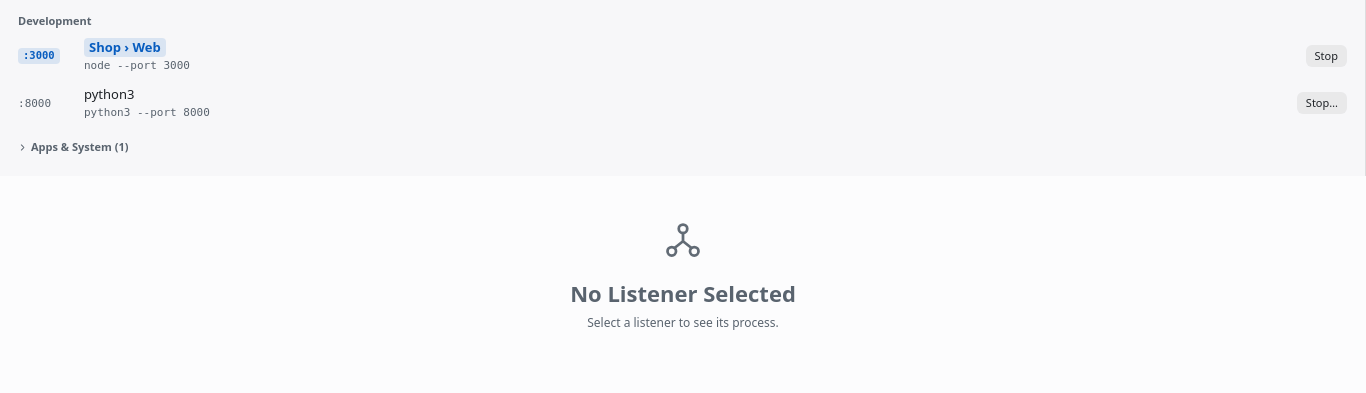
it: PortsView › lists development servers, names a Service's by its Service, and folds apps away
Click the button "Apps & System (1)".
click(73, 147)  # box 10,138 -> 136,156
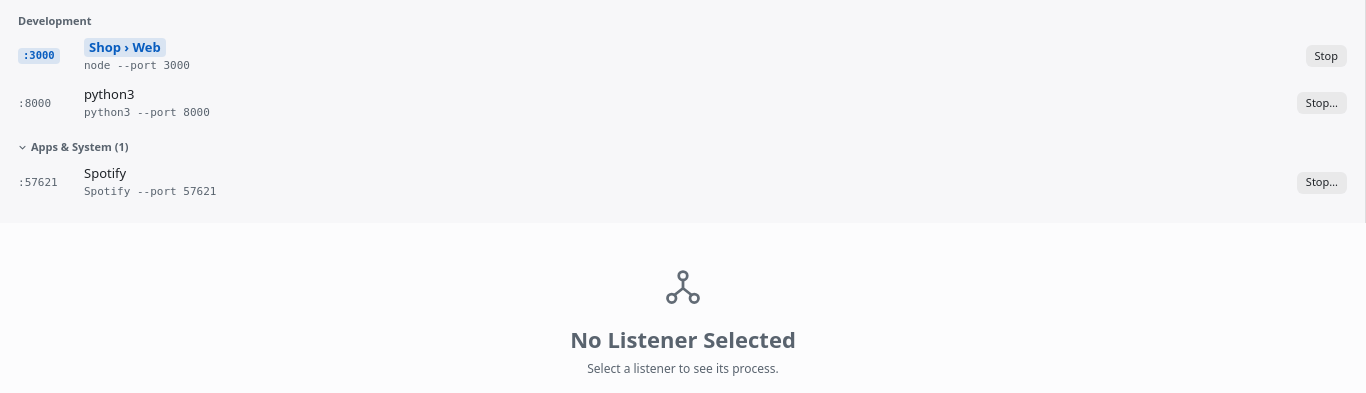
Result: the number of options is 3 at 10,33 -> 1355,79; 10,81 -> 1355,126; 10,160 -> 1355,205
